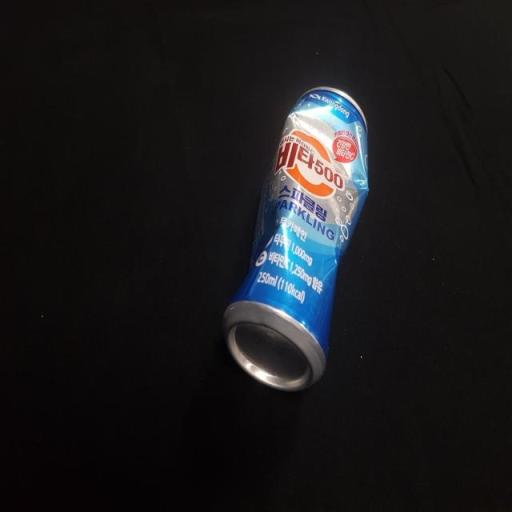metal: (217, 71, 372, 401)
